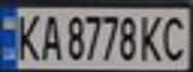7: (81, 11, 103, 61), (100, 11, 121, 61)
8: (118, 11, 139, 62), (63, 11, 84, 61)
A: (36, 10, 63, 62)
C: (157, 11, 190, 63)
K: (9, 9, 45, 62), (136, 11, 166, 63)
